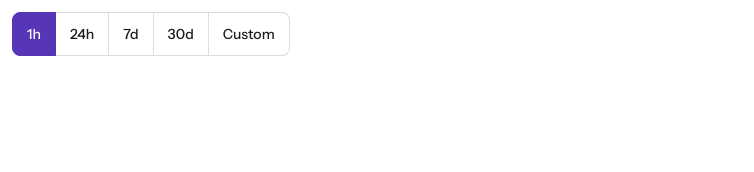
Test: labels the end field as it was told
This screenshot has width=754, height=172.
Click the button "Custom" at (249, 34), box [208, 12, 290, 56]
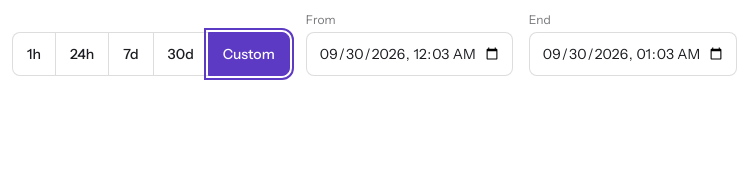
Now the field labelled "End" is shown, box [529, 32, 737, 76]
Now the field labelled "From" is shown, box [306, 32, 513, 76]
